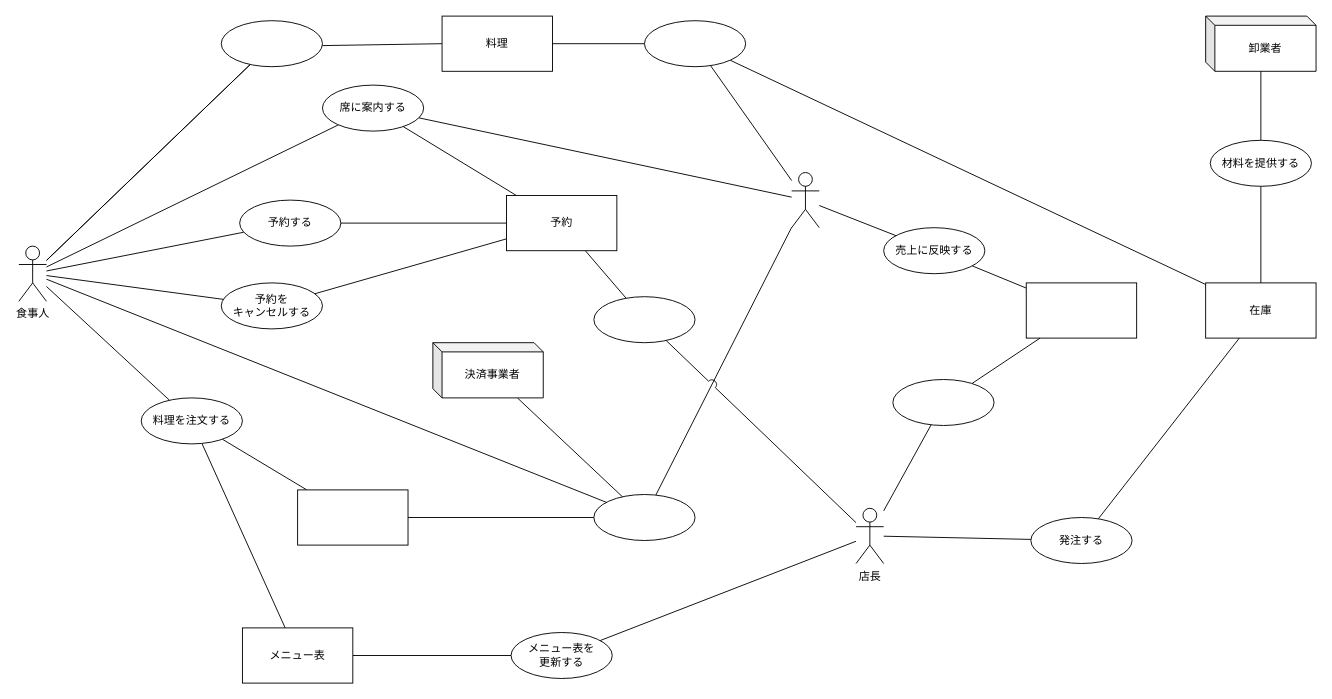
Image size: 1332x699. Some labels were removed from this diagram. Each missing label, with the centre of its shape:
"キャンセル料を 請求する" goes at pixel 644 319.
"会計する" goes at pixel 644 517.
"売上" goes at pixel 1081 310.
"売上を確認する" goes at pixel 943 402.
"店舗スタッフ" goes at pixel 805 200.
"注文履歴" goes at pixel 352 517.
"調理する" goes at pixel 695 43.
"食事する" goes at pixel 271 43.
